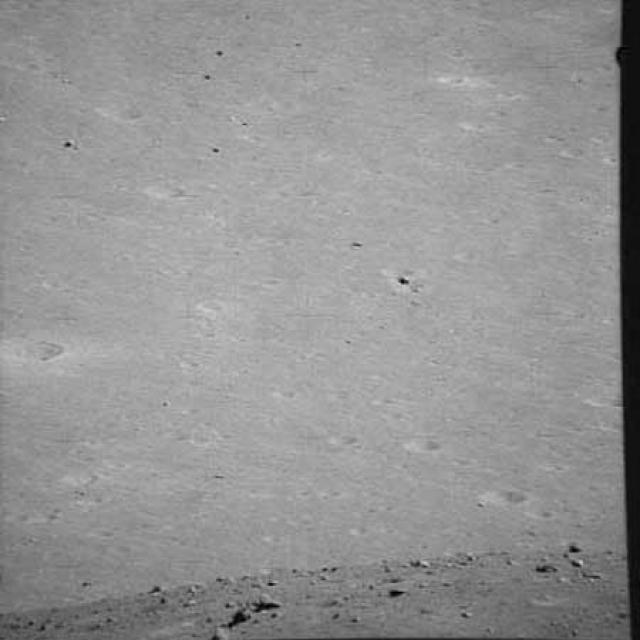crater: (3, 325, 76, 368), (466, 475, 534, 513), (399, 428, 443, 460), (582, 386, 627, 413)
